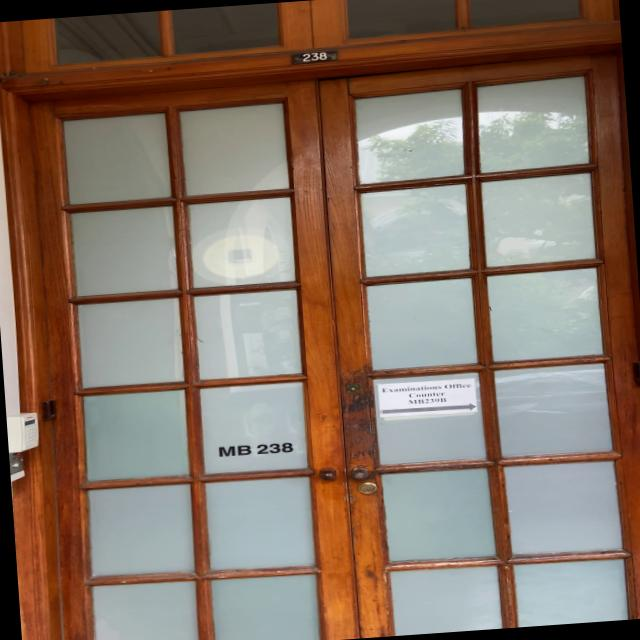room238: (284, 48, 339, 65)
